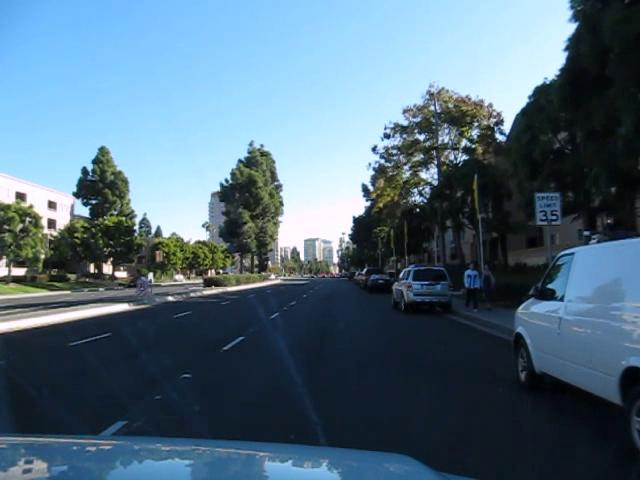speedLimit35: (533, 190, 561, 226)
